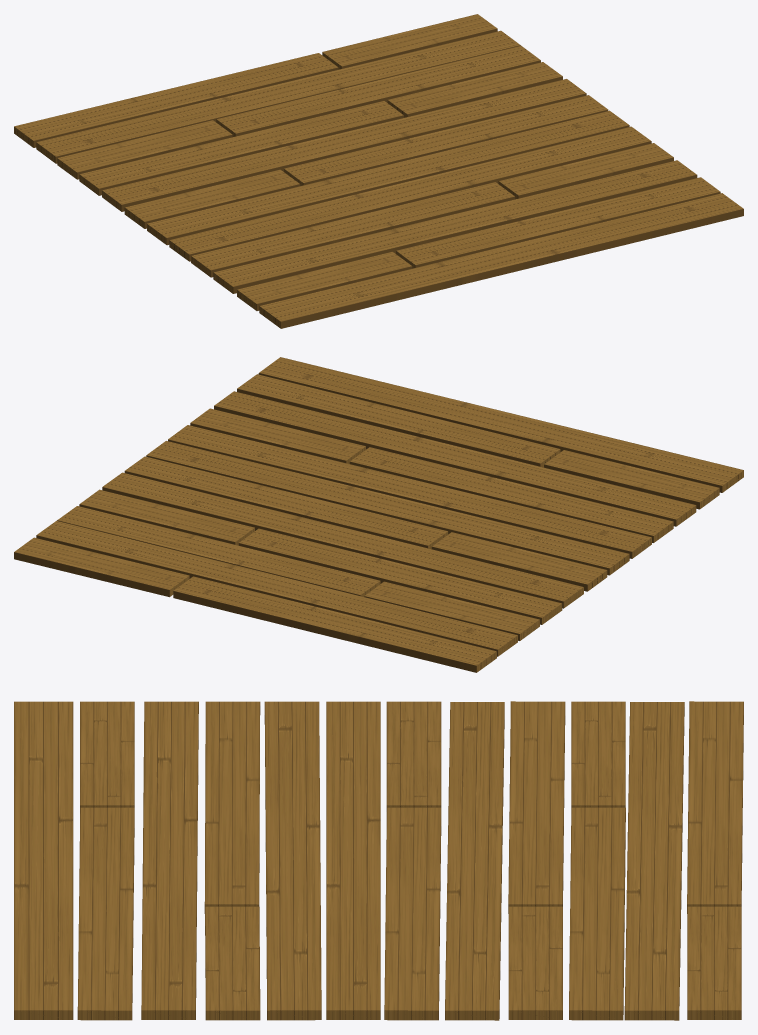
The model's file is Floor.fbx.
3 renders of one model, top to bottom at view 1: azimuth 30°, elevation 25°; view 2: azimuth 150°, elevation 25°; view 3: azimuth 270°, elevation 25°, orthographic. The views are drawn at different scales.
Visible parts, largest first — view 1: witch's house.001; view 2: witch's house.001; view 3: witch's house.001.
Part boxes in pixels (x1,y1,x2,y2): witch's house.001: (14,14,743,328); witch's house.001: (14,357,743,672); witch's house.001: (14,701,743,1020).
Bounding box in the file's own units: 386 × 5.66 × 385.
1 material, 1 textured.
